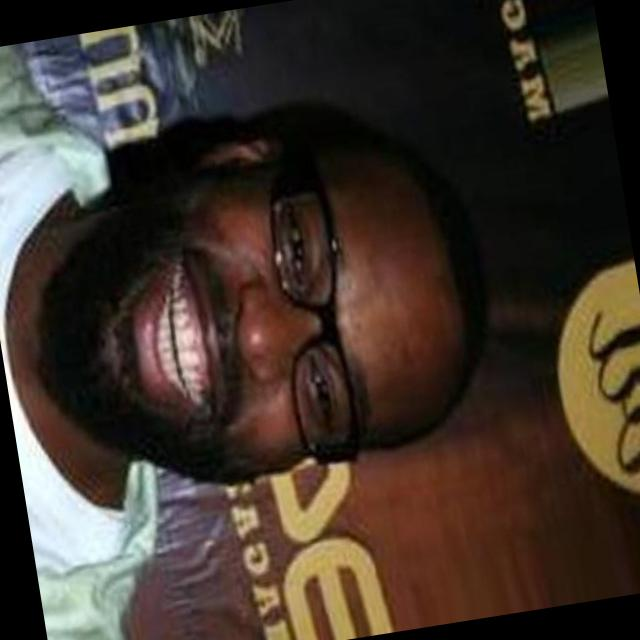bareface: (53, 131, 521, 497)
